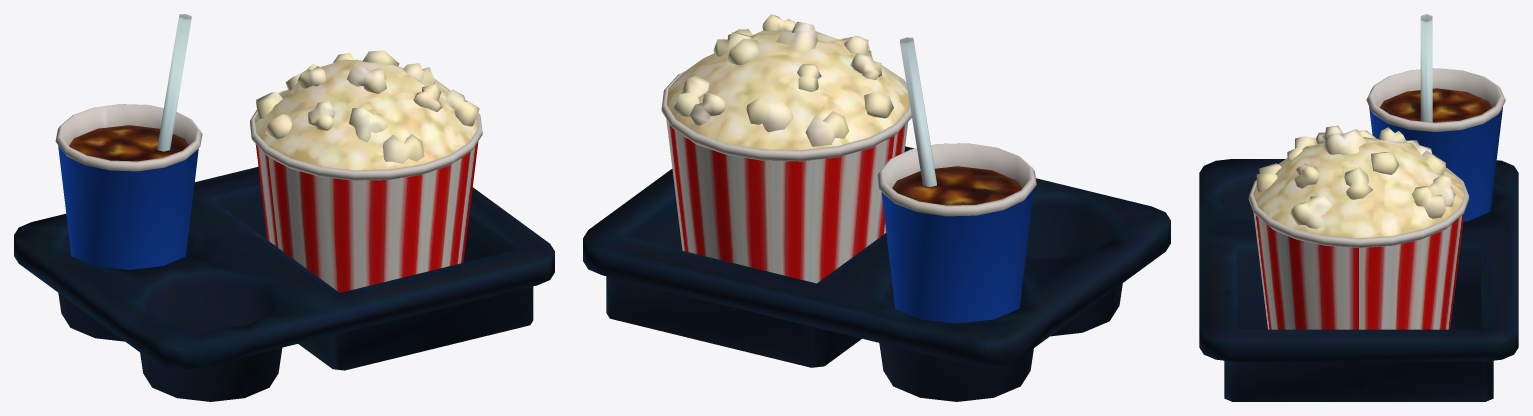
3 views of the same model, side by side, from view 1: azimuth 30°, elevation 25°; view 2: azimuth 150°, elevation 25°; view 3: azimuth 270°, elevation 25° (orthographic). The views are drawn at different scales.
Size of the model in its own units: 7.9 by 5.5 by 5.84.
Materials: 2 (2 with a texture image).
